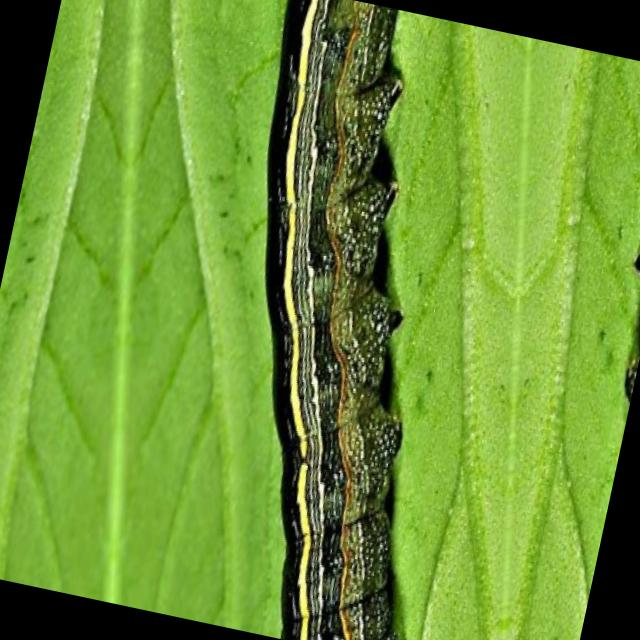Armyworm: (146, 1, 535, 640)
